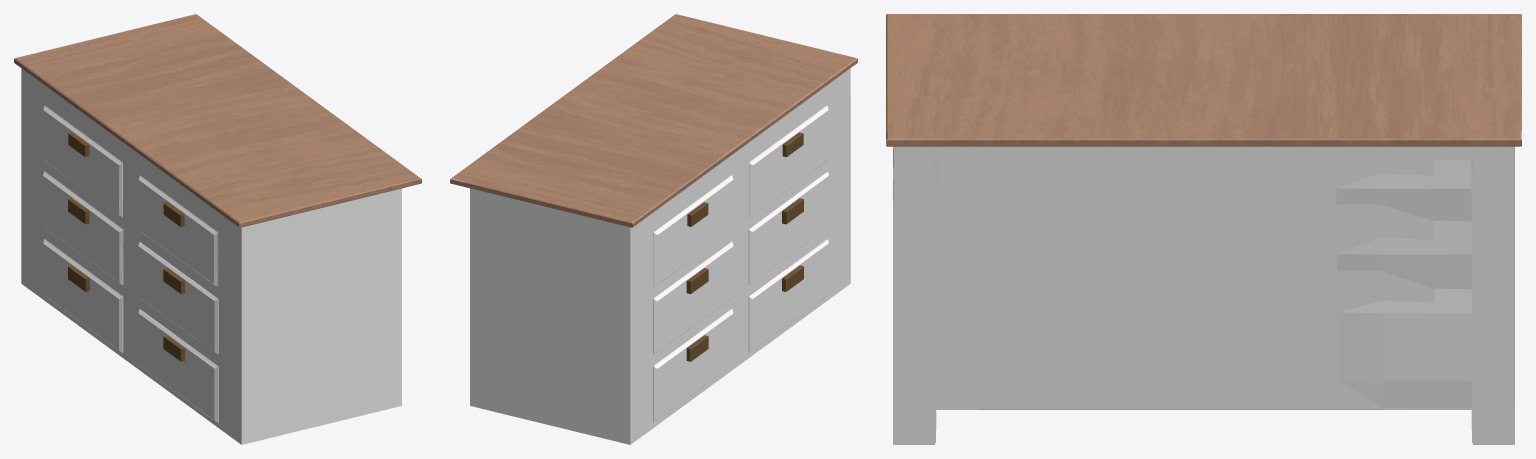
File: island.fbx
3 views of the same model, side by side, from view 1: azimuth 30°, elevation 25°; view 2: azimuth 150°, elevation 25°; view 3: azimuth 270°, elevation 25° (orthographic). The views are drawn at different scales.
Parts seen in each view (by area): view 1: Island; view 2: Island; view 3: Island.
Part boxes in pixels (bbox=[...]): Island: bbox=[14, 14, 421, 444]; Island: bbox=[450, 14, 857, 444]; Island: bbox=[886, 14, 1521, 444].
Bounding box in the file's own units: 2.41 × 2.81 × 5.1.
Materials: 1 (1 with a texture image).
